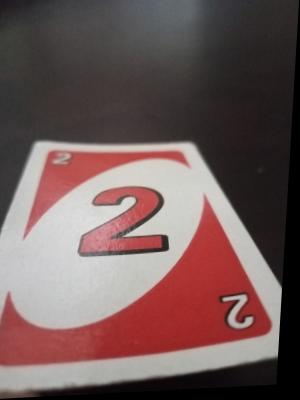num_2: (78, 176, 180, 262), (219, 288, 268, 342), (49, 145, 77, 173)
red: (0, 141, 283, 390)
